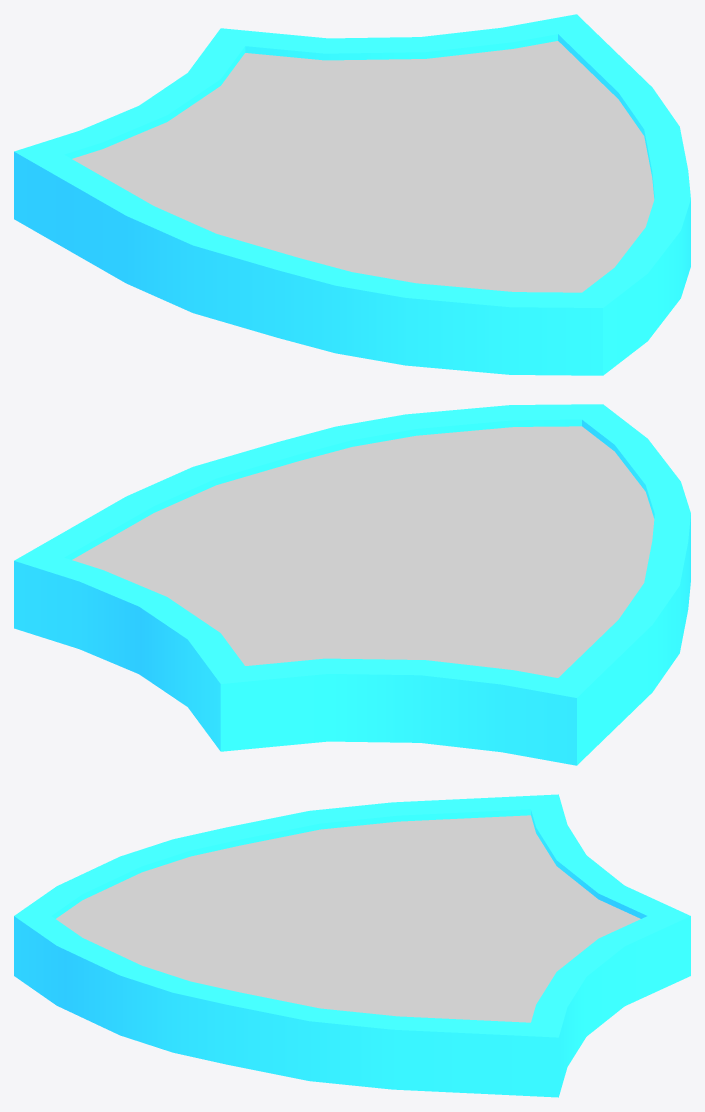
Rendered from Shield.fbx.
3 views of the same model, one above another, from view 1: azimuth 30°, elevation 25°; view 2: azimuth 150°, elevation 25°; view 3: azimuth 270°, elevation 25° (orthographic). The views are drawn at different scales.
Visible parts, largest first — view 1: Cube.002; view 2: Cube.002; view 3: Cube.002.
Boxes of the visible parts, bbox=[...] form: Cube.002: bbox=[14, 14, 690, 375]; Cube.002: bbox=[14, 404, 690, 765]; Cube.002: bbox=[14, 794, 690, 1097].
Size of the model in its own units: 203 by 23.3 by 239.
